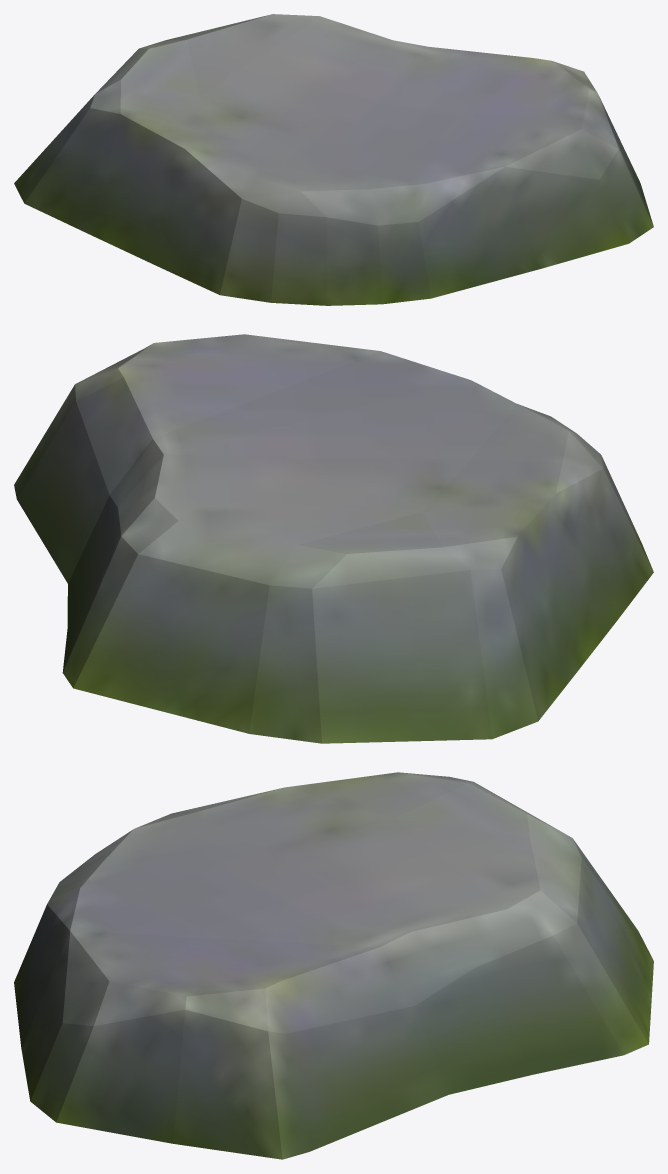
File: sn_pebble_round_2.glb
The picture shows the model from 3 angles, top to bottom: view 1: azimuth 30°, elevation 25°; view 2: azimuth 150°, elevation 25°; view 3: azimuth 270°, elevation 25°; orthographic projection. The views are drawn at different scales.
Visible parts, largest first — view 1: Pebble_Round_2; view 2: Pebble_Round_2; view 3: Pebble_Round_2.
Part boxes in pixels (x1,y1,x2,y2): Pebble_Round_2: (14, 14, 653, 305); Pebble_Round_2: (14, 334, 653, 743); Pebble_Round_2: (14, 772, 653, 1159).
Size of the model in its own units: 0.4495 by 0.0942 by 0.4111.
1 material, 1 textured.
